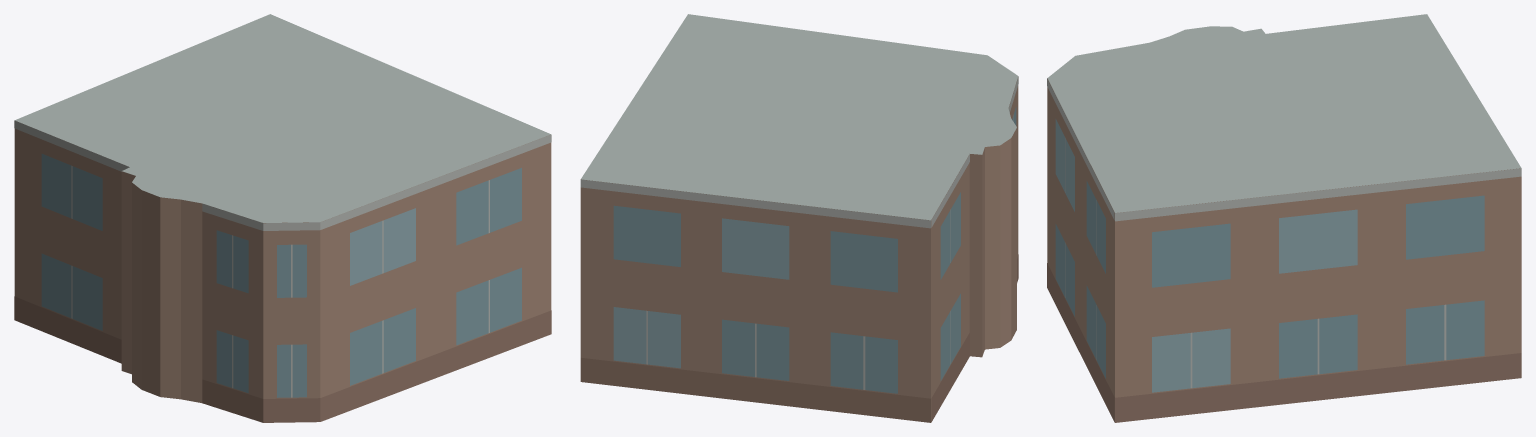
The model's file is survey-upis-32650722.glb.
3 views of the same model, side by side, from view 1: azimuth 30°, elevation 25°; view 2: azimuth 150°, elevation 25°; view 3: azimuth 270°, elevation 25° (orthographic). The views are drawn at different scales.
Parts seen in each view (by area): view 1: survey-upis-32650722.tmp; view 2: survey-upis-32650722.tmp; view 3: survey-upis-32650722.tmp.
Part boxes in pixels (x1,y1,x2,y2): survey-upis-32650722.tmp: [14, 14, 551, 422]; survey-upis-32650722.tmp: [580, 14, 1018, 422]; survey-upis-32650722.tmp: [1047, 14, 1521, 422].
Size of the model in its own units: 12.42 by 6.1 by 12.51.
